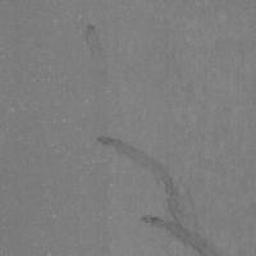Water spot: (95, 133, 224, 256), (82, 22, 106, 65)
